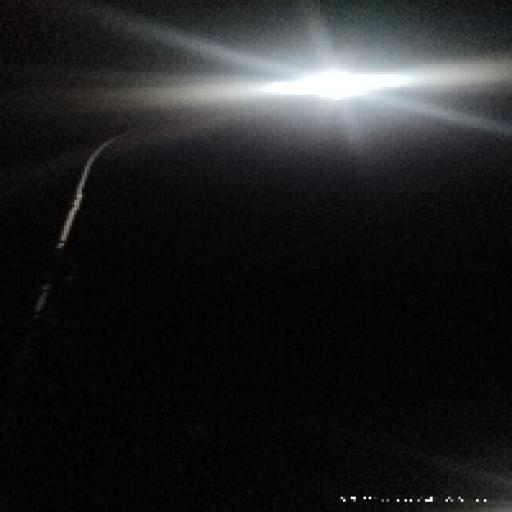Working: (258, 58, 415, 110)
